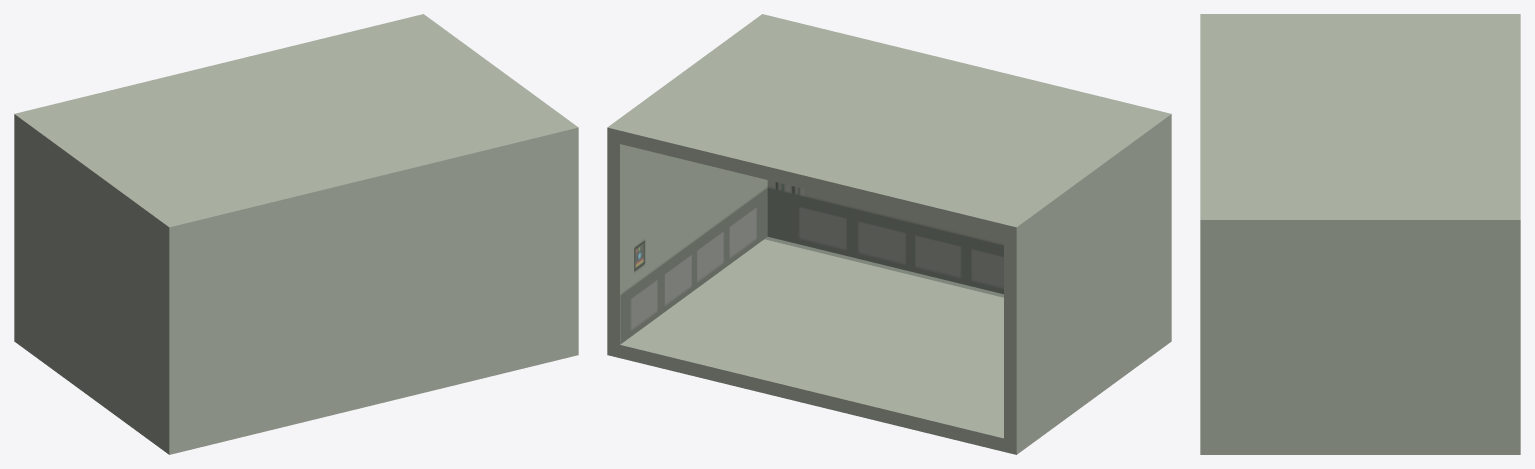
The model's file is departureBay.gltf.
3 views of the same model, side by side, from view 1: azimuth 30°, elevation 25°; view 2: azimuth 150°, elevation 25°; view 3: azimuth 270°, elevation 25° (orthographic). The views are drawn at different scales.
Parts seen in each view (by area): view 1: departureBay; view 2: departureBay; view 3: departureBay.
Boxes of the visible parts, left/top/right/bottom form: departureBay: left=14, top=14, right=578, bottom=454; departureBay: left=607, top=14, right=1171, bottom=454; departureBay: left=1200, top=14, right=1520, bottom=454.
Bounding box in the file's own units: 12.8 × 6.8 × 8.4.
1 material, 1 textured.
